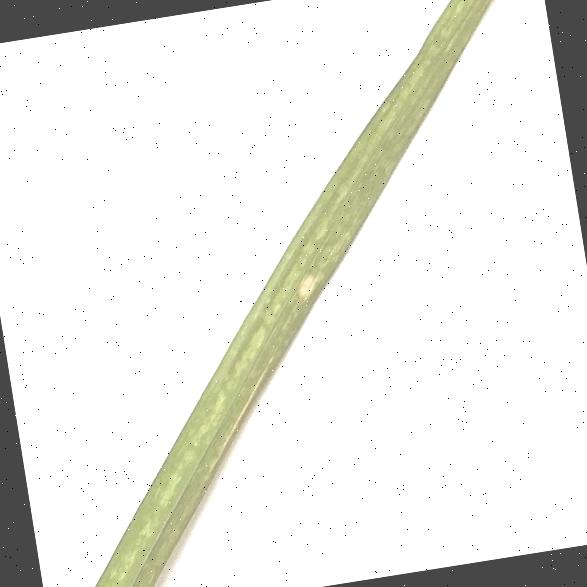Leaf_smut: (286, 262, 331, 308)
